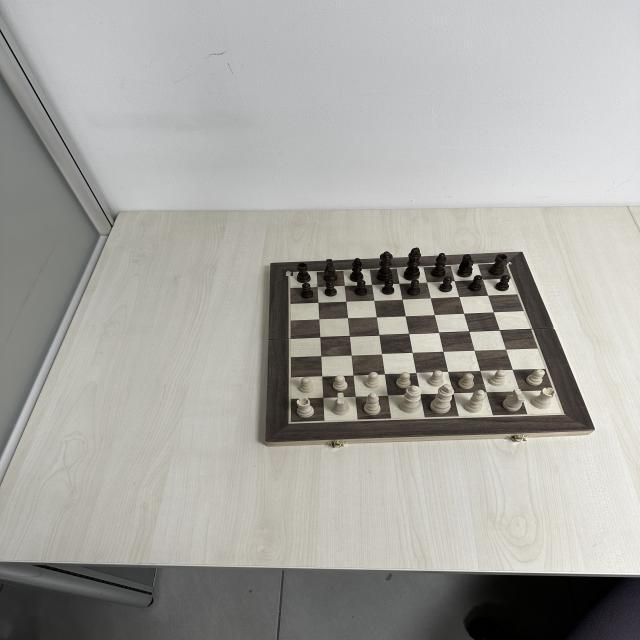chess-table-corners: (286, 420, 294, 426), (559, 411, 566, 417), (286, 270, 293, 276), (503, 261, 512, 265)
